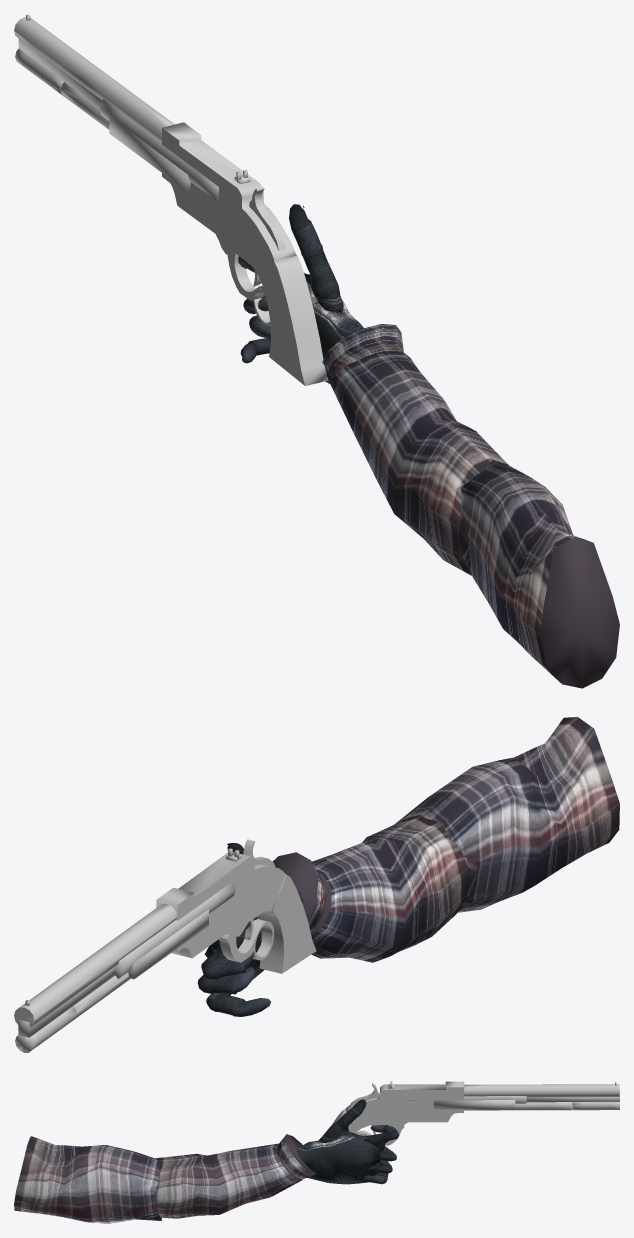
The model's file is volcanic_ads.fbx.
3 renders of one model, top to bottom at view 1: azimuth 30°, elevation 25°; view 2: azimuth 150°, elevation 25°; view 3: azimuth 270°, elevation 25°, orthographic. The views are drawn at different scales.
Parts seen in each view (by area): view 1: rupperarm, rforearm, volcanic_body, volcanic_barrel, volcanic_grip, M9Body, rthumbback, rhand, volcanic_lever; view 2: rupperarm, rforearm, volcanic_body, volcanic_barrel, volcanic_grip, M9Body, volcanic_lever, volcanic_magazinecap, rmfingermiddle, rifingermiddle, rpinkymiddle, rpinkyfront (+1 smaller); view 3: rupperarm, rforearm, volcanic_body, volcanic_barrel, rhand, M9Body, rthumbback, volcanic_magazinecap, rpfingerback.
Part boxes in pixels (x1,y1,x2,y2): rupperarm: (460,461,619,688); rforearm: (322,324,509,575); volcanic_body: (162,122,296,276); volcanic_barrel: (14,17,174,141); volcanic_grip: (259,255,328,385); M9Body: (99,99,218,202); rthumbback: (302,249,343,312); rhand: (306,282,363,384); volcanic_lever: (227,253,270,326); rupperarm: (394,717,619,912); rforearm: (272,816,468,962); volcanic_body: (156,852,285,958); volcanic_barrel: (14,904,176,1037); volcanic_grip: (257,874,316,973); M9Body: (115,881,235,979); volcanic_lever: (219,919,274,962); volcanic_magazinecap: (15,1006,76,1052); rmfingermiddle: (202,956,246,979); rifingermiddle: (198,974,238,994); rpinkymiddle: (207,994,245,1016); rpinkyfront: (230,998,270,1016); rupperarm: (14,1136,161,1223); rforearm: (155,1134,316,1218); volcanic_body: (345,1081,464,1128); volcanic_barrel: (464,1084,619,1110); rhand: (296,1136,381,1184); M9Body: (404,1096,526,1109); rthumbback: (318,1116,366,1143); volcanic_magazinecap: (572,1102,619,1110); rpfingerback: (363,1129,397,1152).
Bounding box in the file's own units: 4.72 × 9.94 × 39.48.
